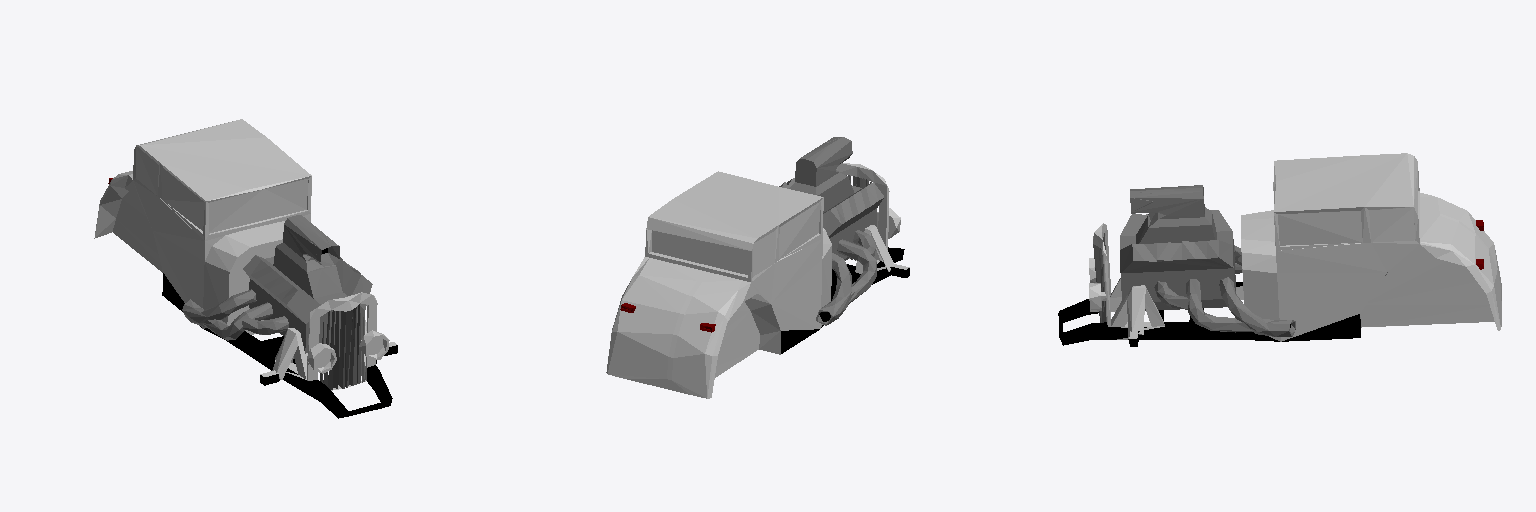
The model's file is hot_rod2_body.obj.
3 renders of one model, left to right at view 1: azimuth 30°, elevation 25°; view 2: azimuth 150°, elevation 25°; view 3: azimuth 270°, elevation 25°, orthographic.
Parts seen in each view (by area): view 1: Cube.001; view 2: Cube.001; view 3: Cube.001.
Part boxes in pixels (x1,y1,x2,y2): Cube.001: (94, 119, 397, 418); Cube.001: (606, 137, 909, 398); Cube.001: (1058, 153, 1501, 346).
Size of the model in its own units: 2.49 by 2.61 by 6.84.